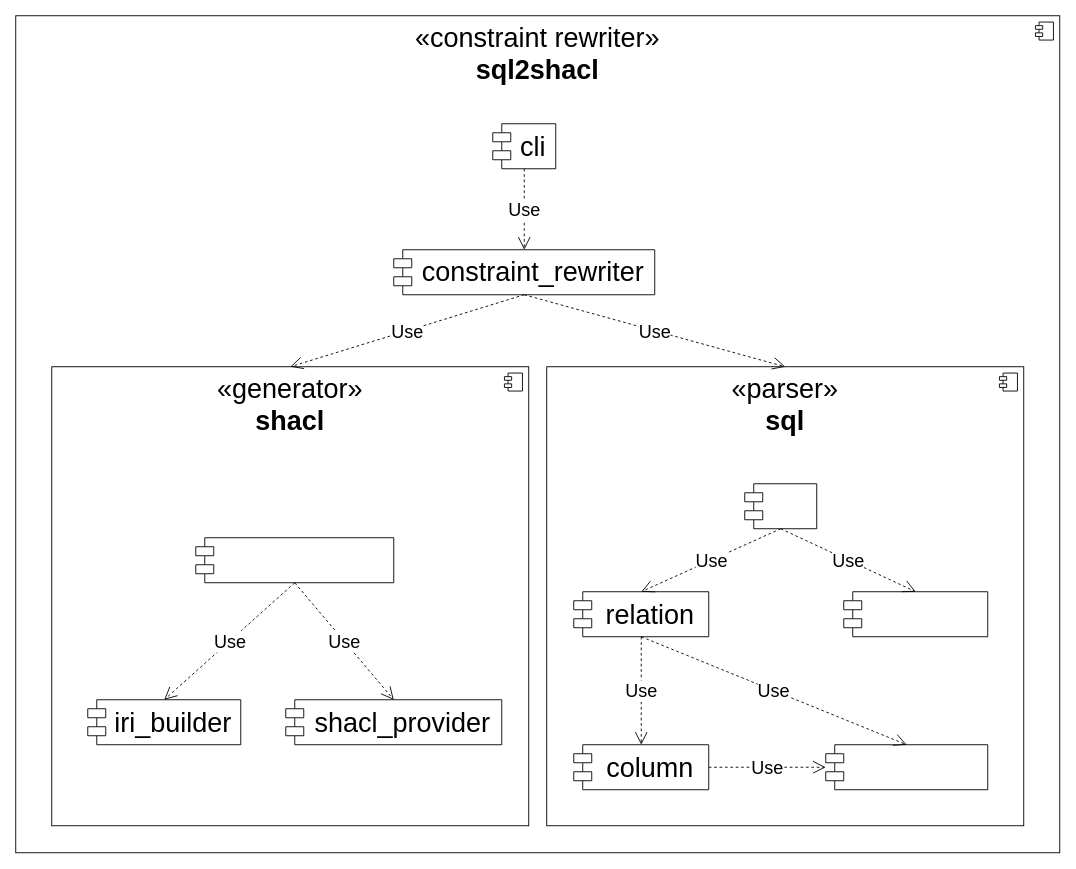
Image size: 1076x869. Some labels were removed from this diagram. Each missing label, with the centre of its shape:
"constraint" belongs at point (906, 767).
"ddl" belongs at point (780, 506).
"identifier" belongs at point (915, 614).
"shacl_shaper" belongs at point (294, 560).
